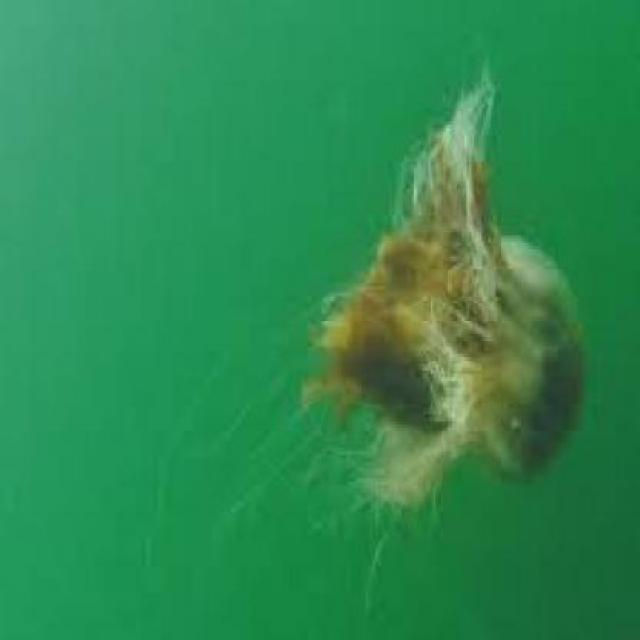Jellyfish: (221, 57, 590, 543)
